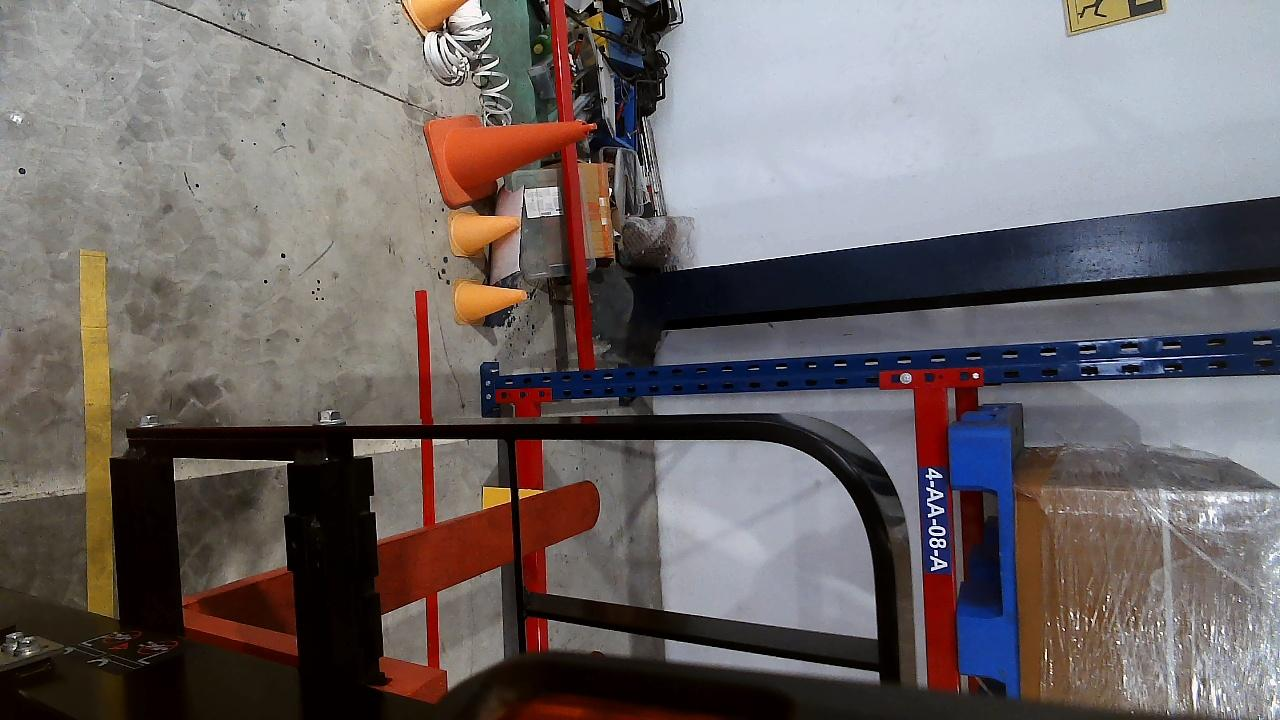h_rack: (910, 383, 964, 692), (516, 403, 550, 646)
orange_strip: (481, 486, 511, 508)
red_line: (414, 289, 440, 662)
small_pallet: (944, 427, 1021, 694)
yellow_line: (80, 250, 115, 613)
